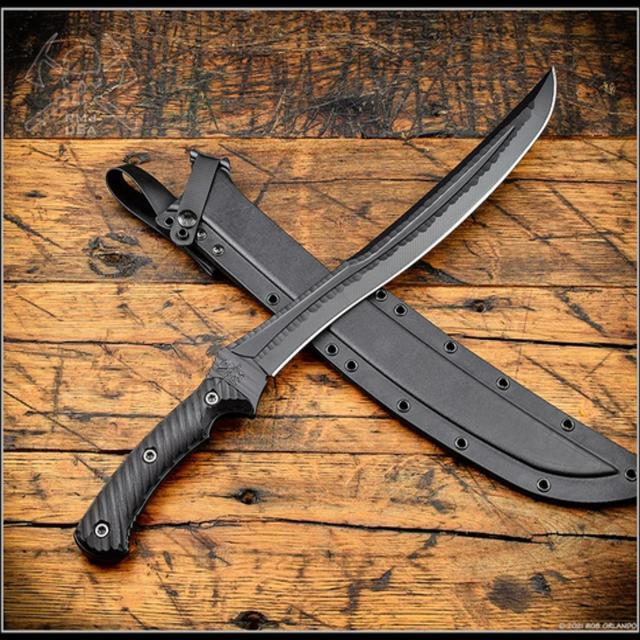short sword: (60, 64, 563, 576)
